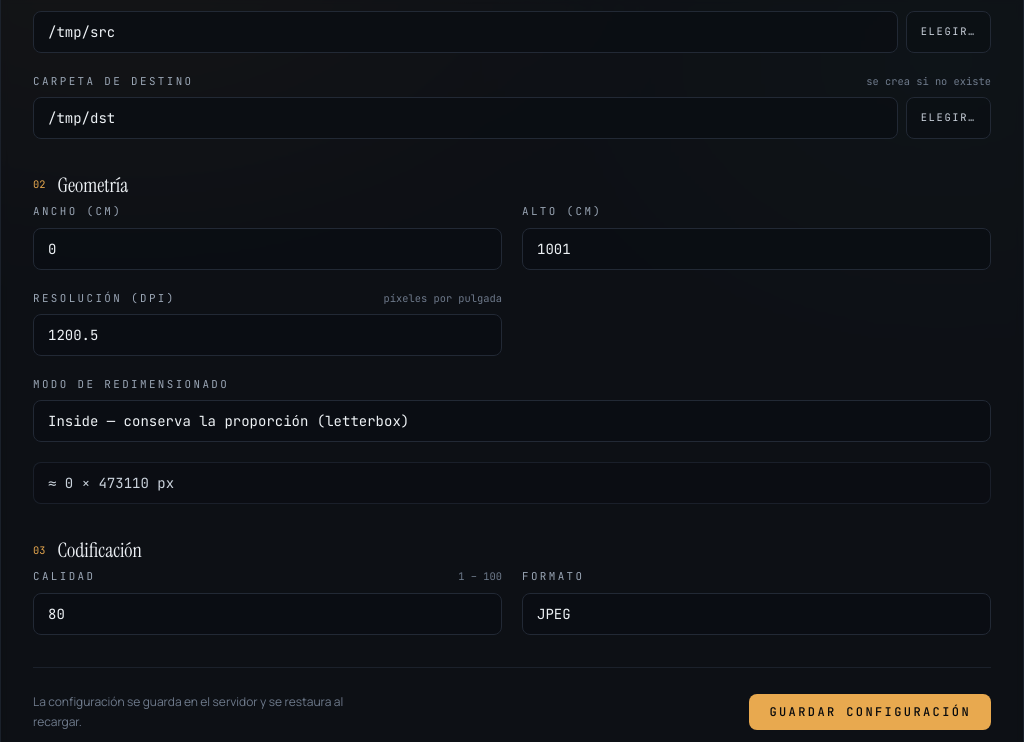
Test: ConfigForm › rejects non-positive, out-of-range or non-integer geometry values
(page scrolled)
Click the button "Guardar configuración" at (870, 712), box [749,694,991,730]
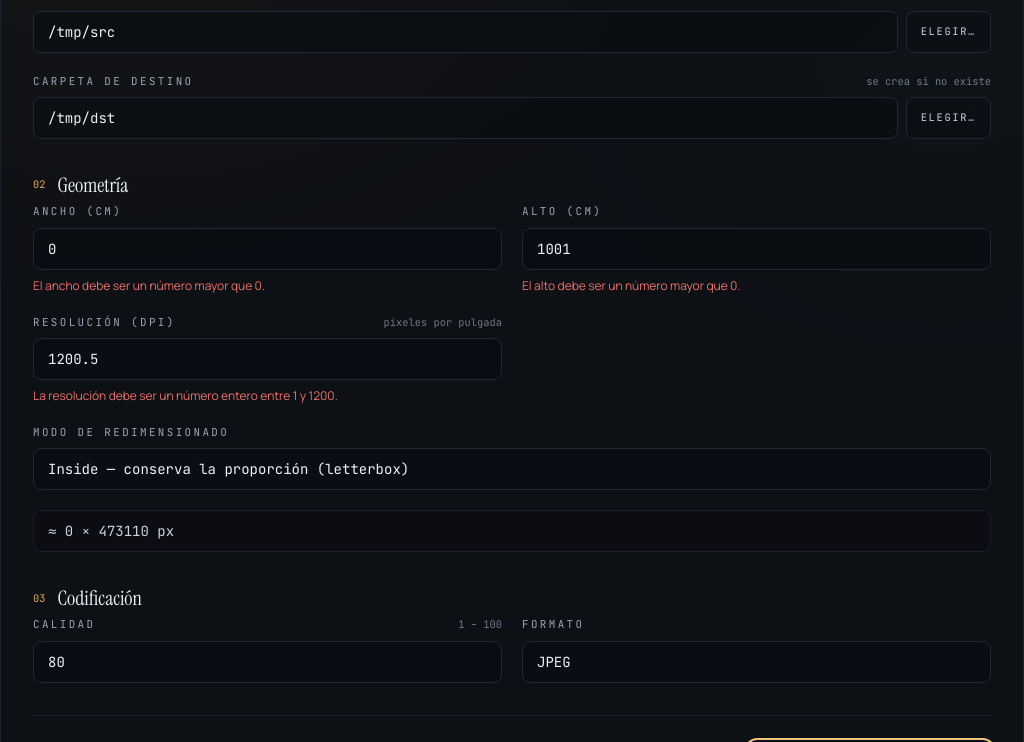
Check: the text "El ancho debe ser un número mayor que 0." is shown, box [33,276,265,294]
Check: the text "El alto debe ser un número mayor que 0." is shown, box [522,276,740,294]
Check: the text "La resolución debe ser un número entero entre 1 y 1200." is shown, box [33,387,338,404]
